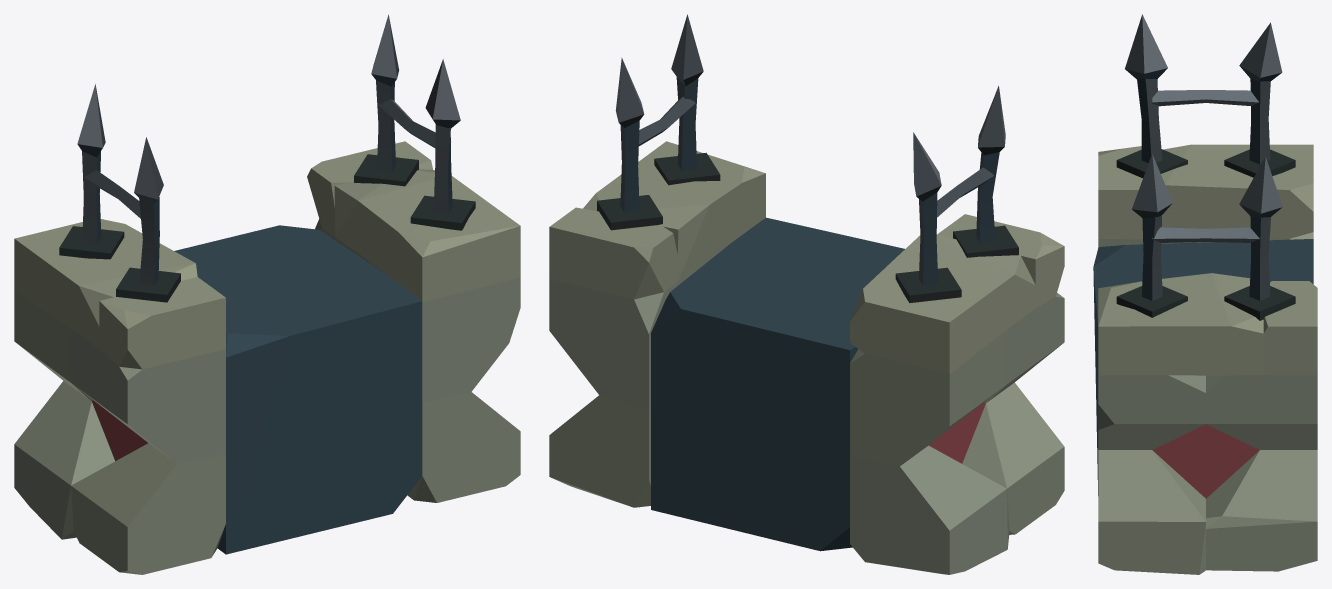
Rendered from bridge_element_1x1x1_1_metal_spikes.fbx.
The picture shows the model from 3 angles, left to right: view 1: azimuth 30°, elevation 25°; view 2: azimuth 150°, elevation 25°; view 3: azimuth 270°, elevation 25°; orthographic projection. The views are drawn at different scales.
Parts seen in each view (by area): view 1: bridge_element_1x1x1_1_metal_spikes; view 2: bridge_element_1x1x1_1_metal_spikes; view 3: bridge_element_1x1x1_1_metal_spikes.
Boxes of the visible parts, x1=… form: bridge_element_1x1x1_1_metal_spikes: x1=14, y1=14, x2=520, y2=574; bridge_element_1x1x1_1_metal_spikes: x1=549, y1=14, x2=1064, y2=574; bridge_element_1x1x1_1_metal_spikes: x1=1093, y1=14, x2=1317, y2=574.
Size of the model in its own units: 204 by 206 by 104.
